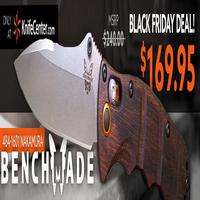knife: (9, 36, 193, 196)
